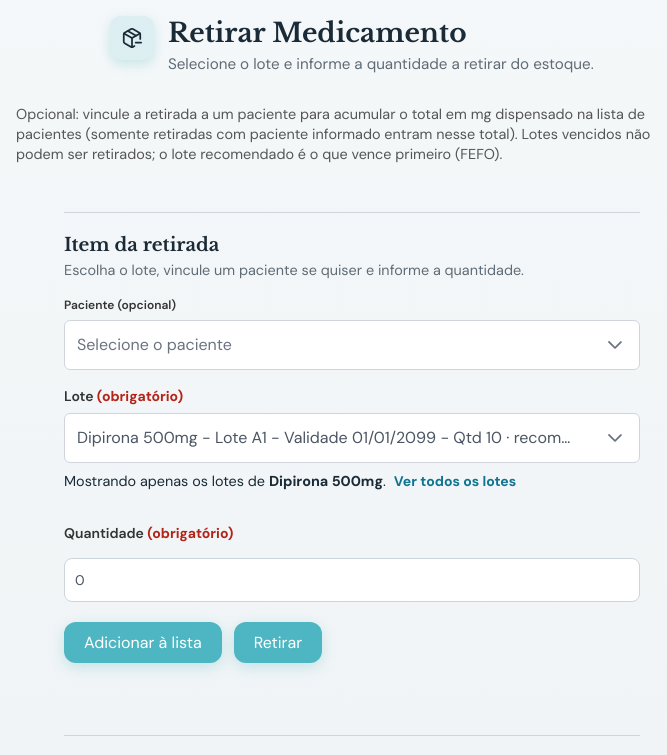
RetiraMedication › vindo da URL com medicamento, mostra o filtro aplicado e permite ver todos os lotes
The width and height of the screenshot is (667, 755).
Check: the text "Mostrando apenas os lotes de Dipirona 500mg." is shown, box [64,471,386,492]
Check: the text "Dipirona 500mg - Lote A1 - Validade" is shown, box [77,427,618,448]
Click the button "Ver todos os lotes" at (455, 481), box [394,472,516,490]
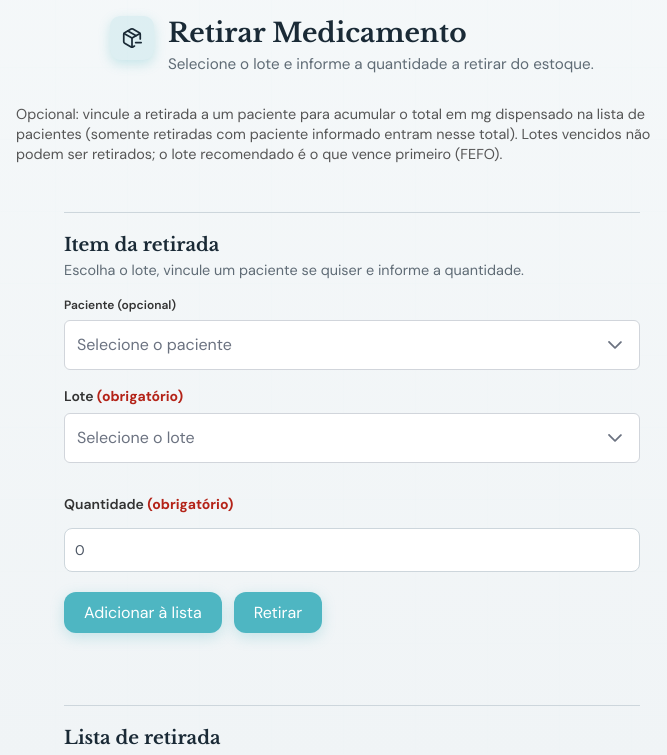
Check: the text "Mostrando apenas os lotes de" is gone
